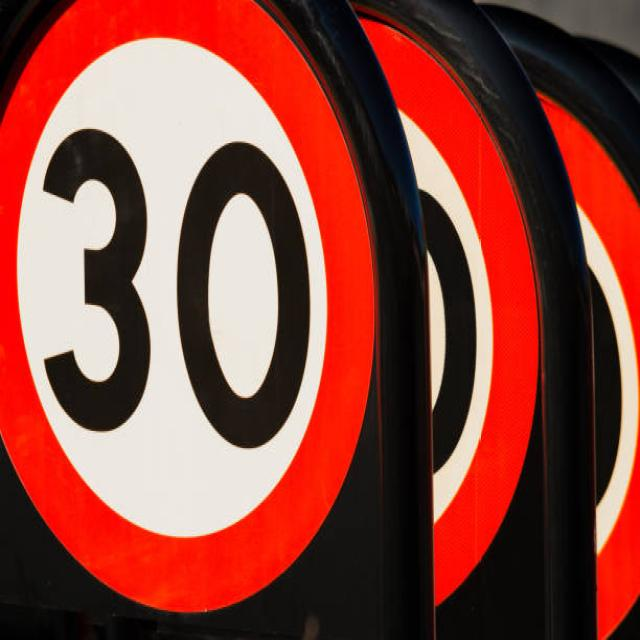Speed limit 30: (3, 4, 386, 616)
